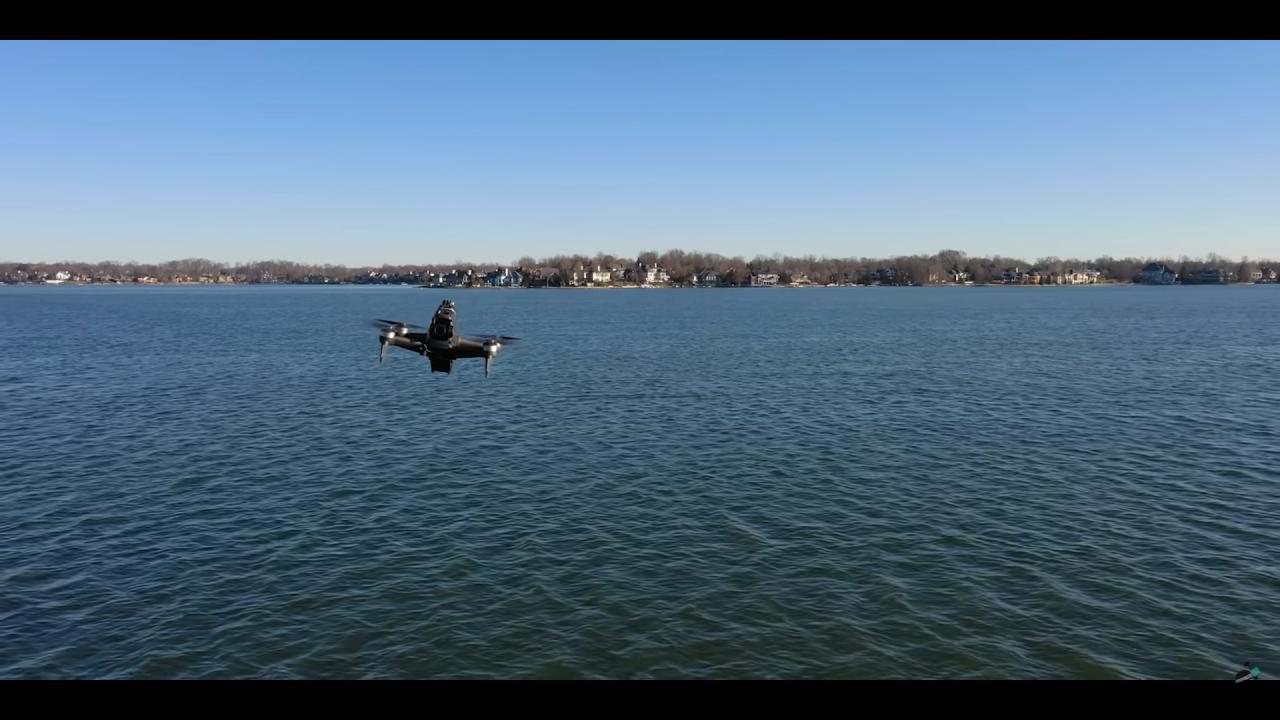Drone: (356, 293, 530, 386)
